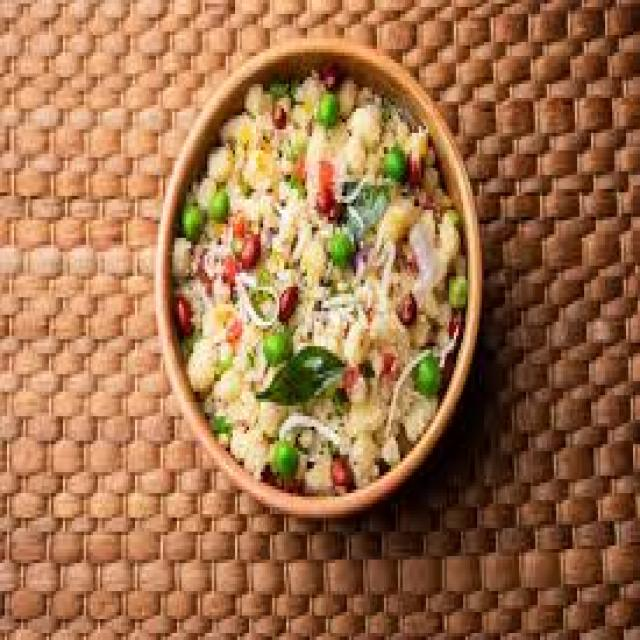UPMA: (170, 77, 463, 490)
